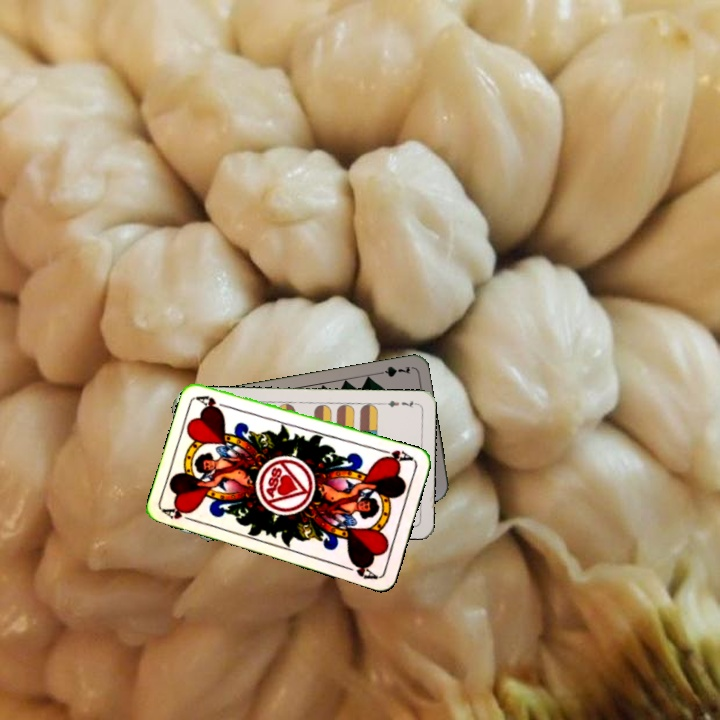E7: (379, 396, 419, 410)
G7: (372, 362, 413, 380)
HA: (160, 502, 200, 525), (376, 445, 416, 466)
